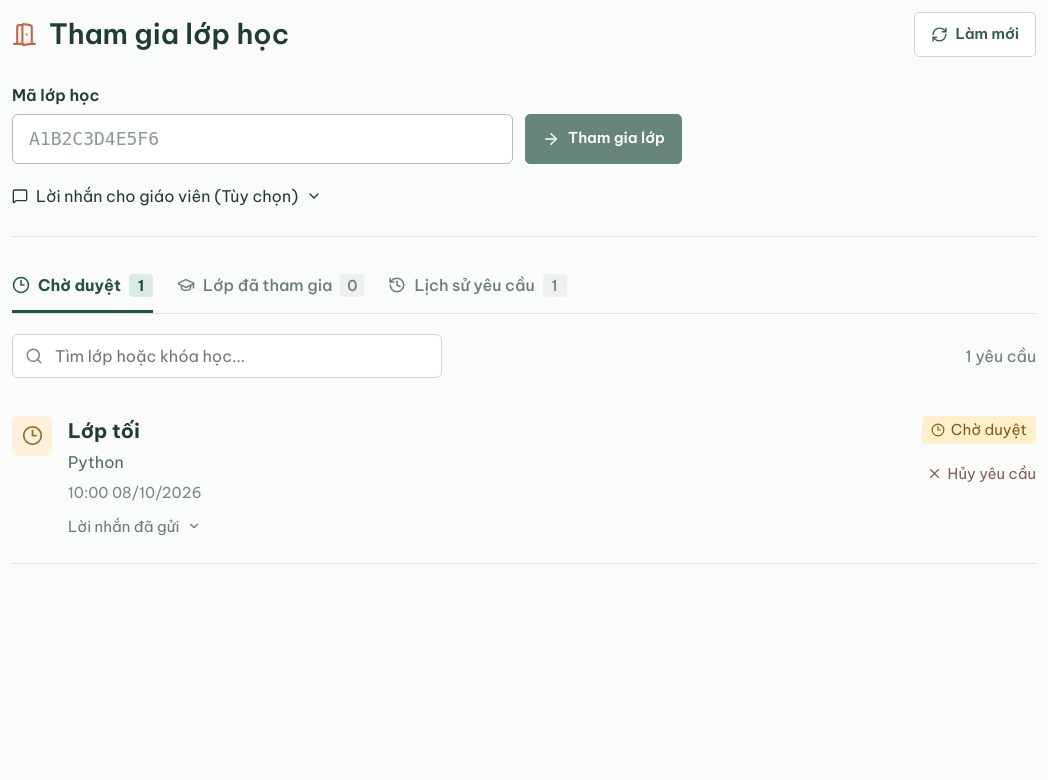
Scenario: enrollment workflows › joins a class and refreshes courses: ENROLLED
Expected: the button "Tham gia lớp" is disabled, [525, 114, 682, 164]
Type "a1b2c3d4e5f6" into the field labelled "Mã lớp học" at (262, 138), box [12, 114, 513, 164]
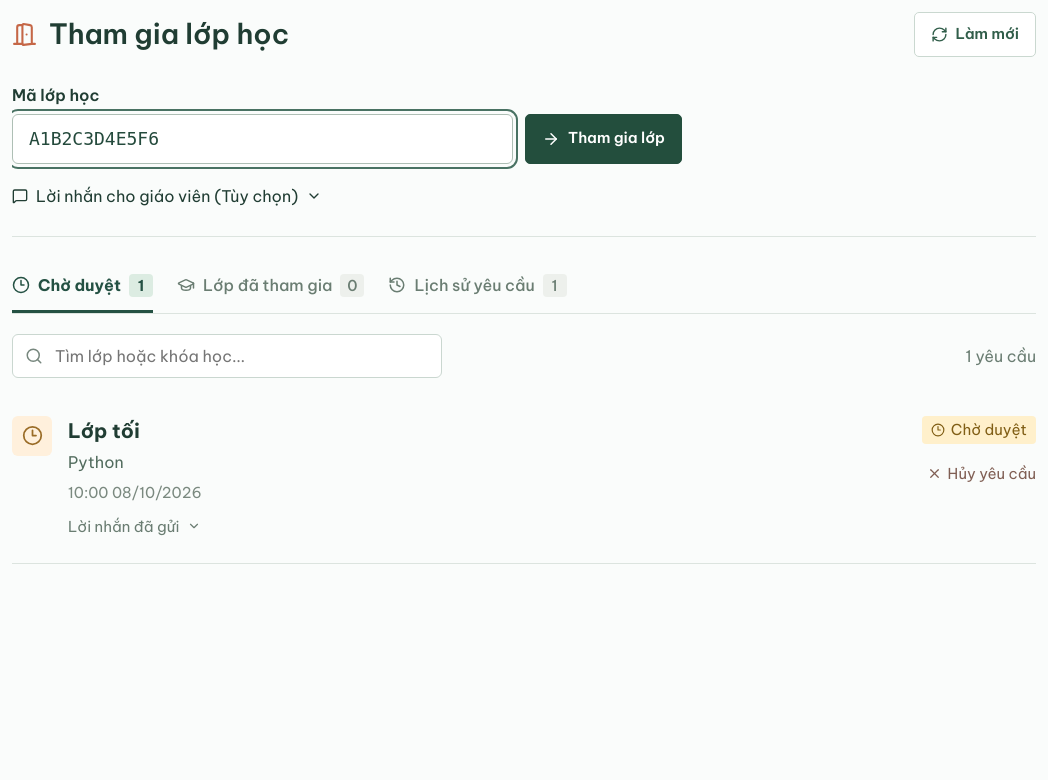
Click the button "Tham gia lớp" at (604, 138), box [525, 114, 682, 164]
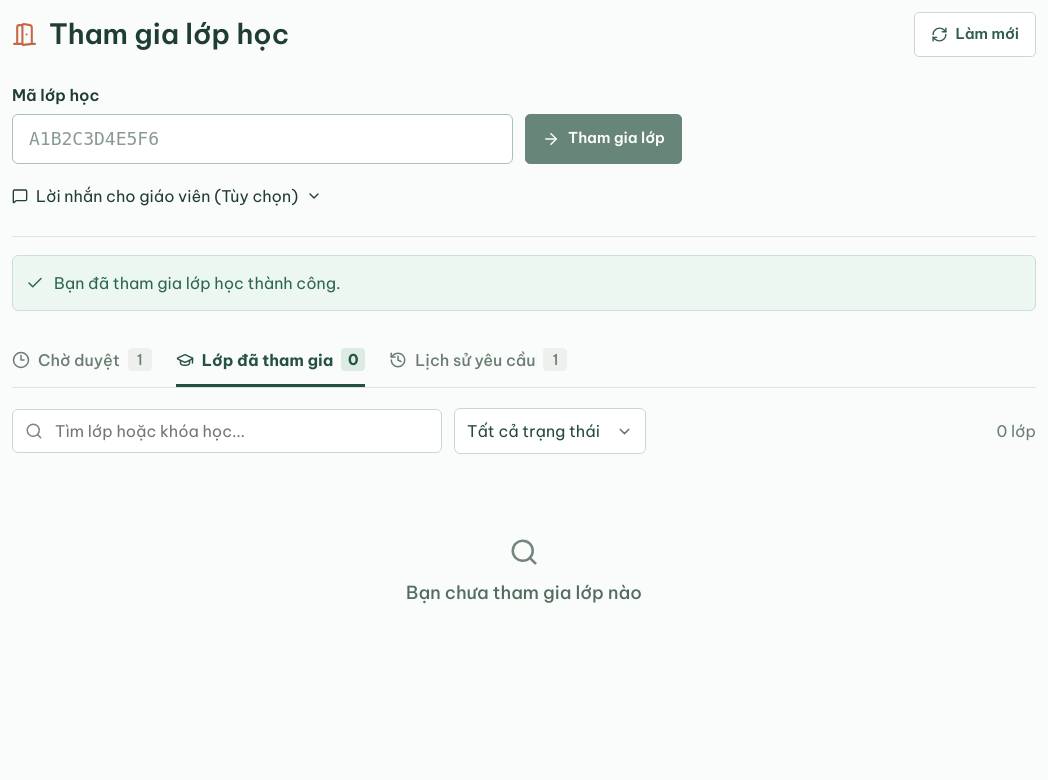
Expected: the message shows "thành công", [54, 272, 341, 292]
